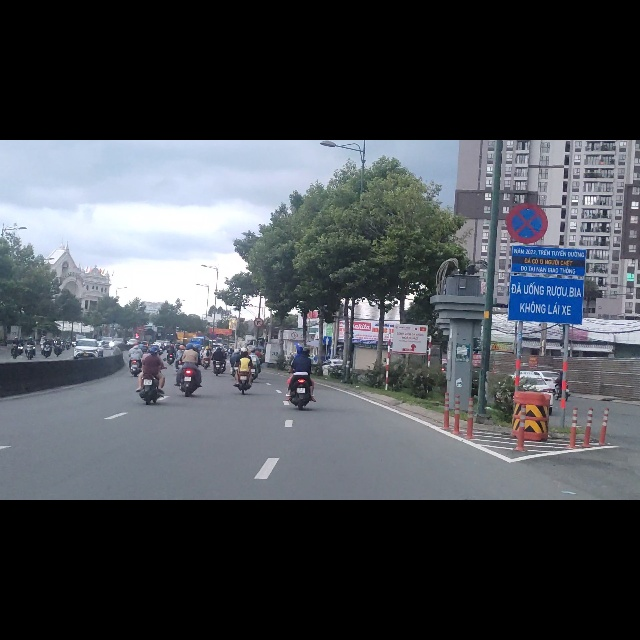bien_cam: (506, 110, 547, 185), (323, 348, 332, 365), (254, 315, 263, 332)
